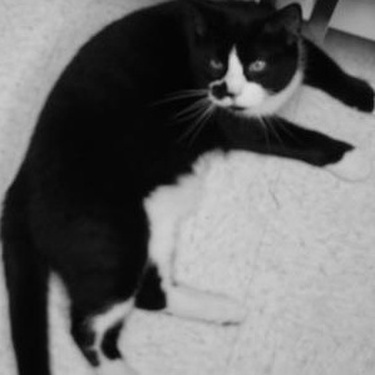cat: (6, 1, 369, 372)
